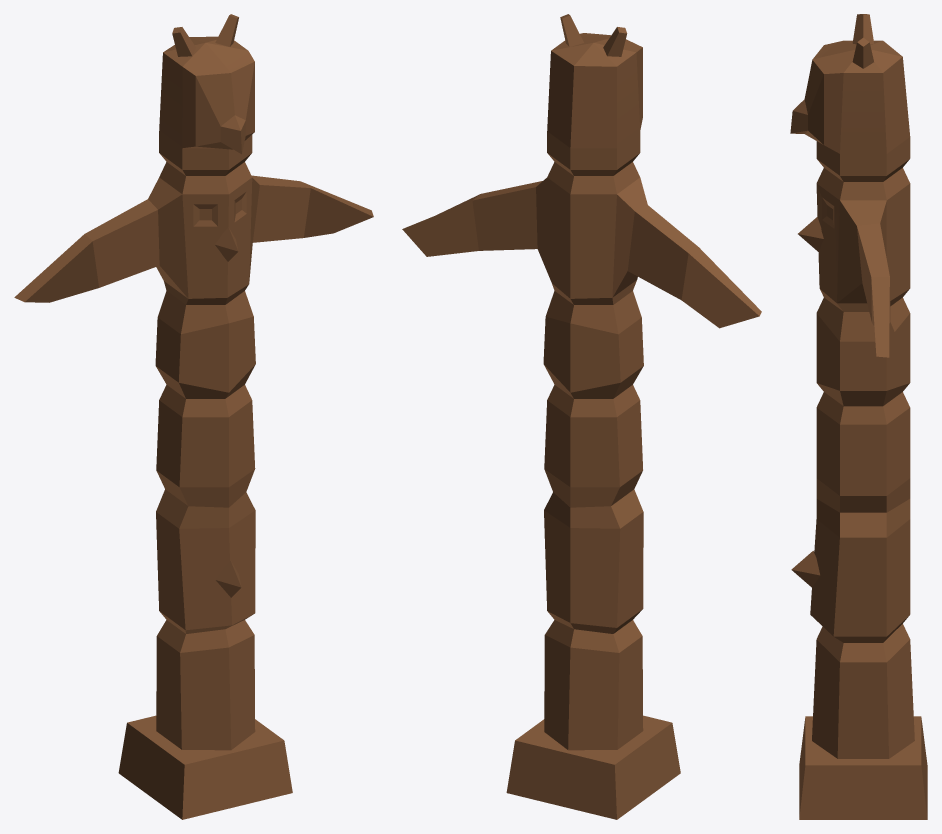
File: western_totem.fbx
3 views of the same model, side by side, from view 1: azimuth 30°, elevation 25°; view 2: azimuth 150°, elevation 25°; view 3: azimuth 270°, elevation 25° (orthographic).
Parts seen in each view (by area): view 1: western_totem; view 2: western_totem; view 3: western_totem.
Part boxes in pixels (x1,y1,x2,y2): western_totem: [14, 14, 373, 819]; western_totem: [402, 14, 761, 819]; western_totem: [790, 14, 927, 819].
Size of the model in its own units: 98.21 by 200 by 32.42.
